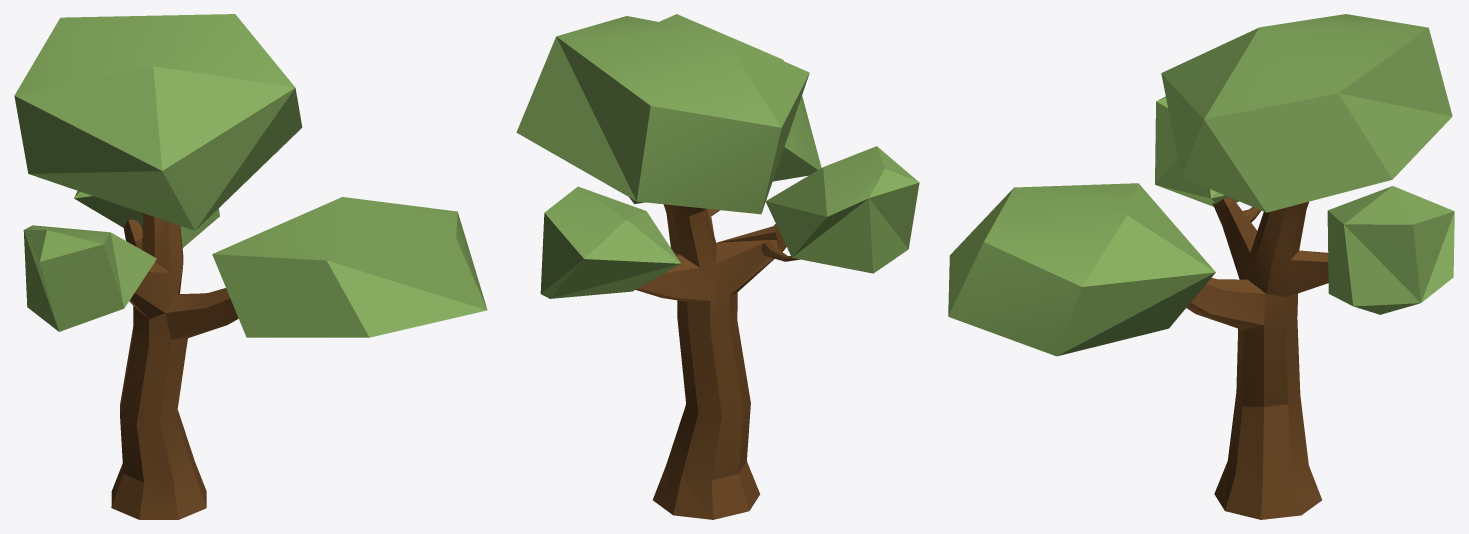
Rendered from Vegetation_Tree_Asian_03.fbx.
The picture shows the model from 3 angles, left to right: view 1: azimuth 30°, elevation 25°; view 2: azimuth 150°, elevation 25°; view 3: azimuth 270°, elevation 25°; orthographic projection. The views are drawn at different scales.
Visible parts, largest first — view 1: Vegetation_Tree_Asian_03; view 2: Vegetation_Tree_Asian_03; view 3: Vegetation_Tree_Asian_03.
Part boxes in pixels (<box>): Vegetation_Tree_Asian_03: <box>14,14,487,519</box>; Vegetation_Tree_Asian_03: <box>516,14,919,519</box>; Vegetation_Tree_Asian_03: <box>948,14,1454,519</box>.
Size of the model in its own units: 165 by 187 by 184.
